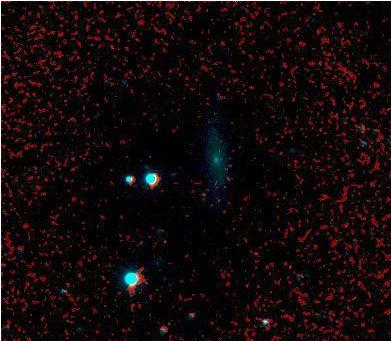star: (153, 225, 183, 255)
